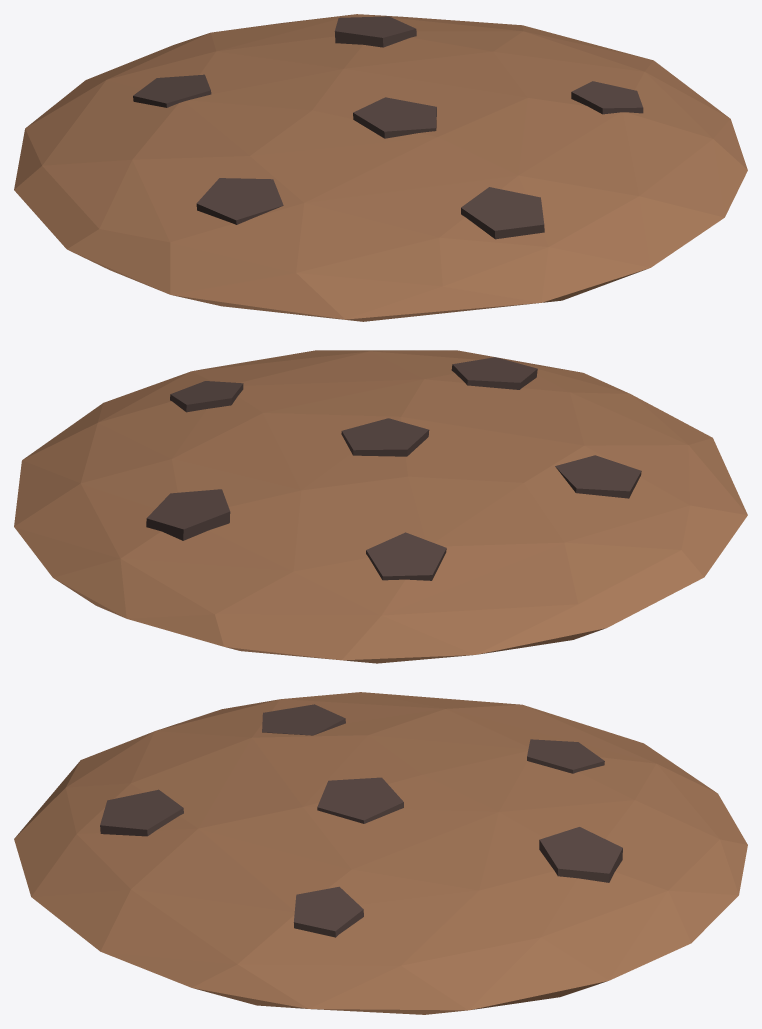
The model's file is Cookie.glb.
The picture shows the model from 3 angles, top to bottom: view 1: azimuth 30°, elevation 25°; view 2: azimuth 150°, elevation 25°; view 3: azimuth 270°, elevation 25°; orthographic projection.
Parts seen in each view (by area): view 1: Cookie; view 2: Cookie; view 3: Cookie.
Boxes of the visible parts, x1,y1,x2,y2 form: Cookie: (14, 14, 747, 321); Cookie: (14, 350, 747, 663); Cookie: (14, 692, 747, 1014).
Size of the model in its own units: 0.2089 by 0.0244 by 0.2072.
Materials: 1 (1 with a texture image).
